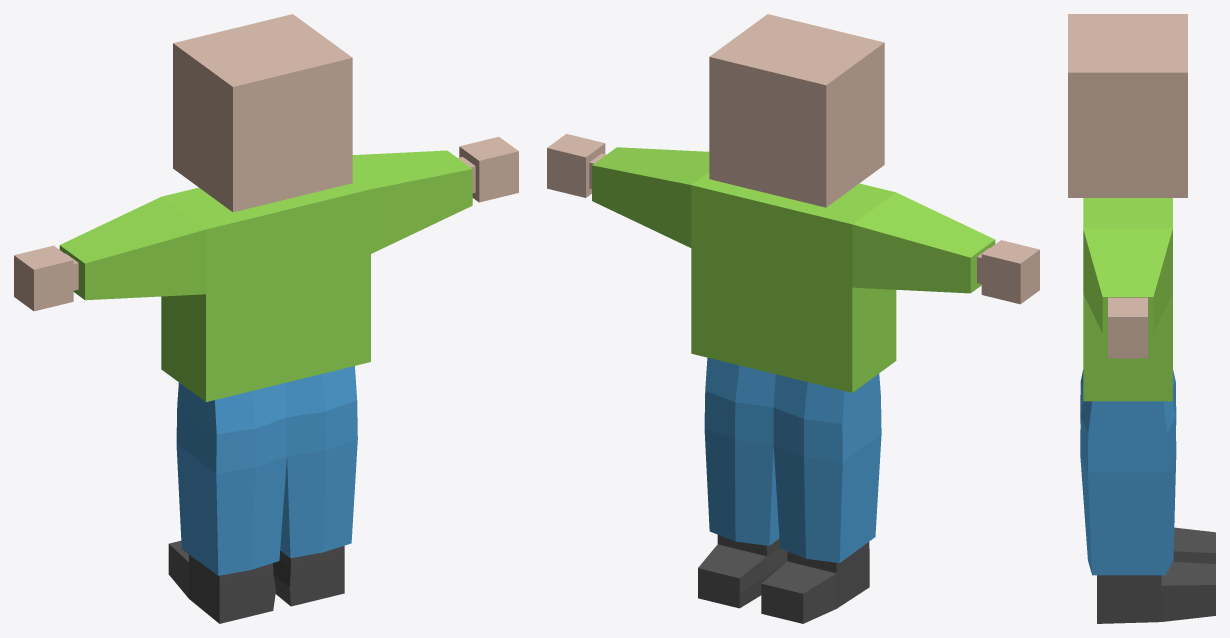
The model's file is Neighbour_1.fbx.
The picture shows the model from 3 angles, left to right: view 1: azimuth 30°, elevation 25°; view 2: azimuth 150°, elevation 25°; view 3: azimuth 270°, elevation 25°; orthographic projection. The views are drawn at different scales.
Visible parts, largest first — view 1: Cube.002, Cube, Cube.003, Cube.009, Cube.010, Cube.006, Cube.008; view 2: Cube.002, Cube, Cube.003, Cube.009, Cube.010, Cube.006, Cube.008; view 3: Cube.003, Cube, Cube.002, Cube.010, Cube.008, Cube.009.
Boxes of the visible parts, x1=… form: Cube.002: x1=59, y1=150, x2=472, y2=401; Cube: x1=176, y1=366, x2=357, y2=575; Cube.003: x1=173, y1=14, x2=352, y2=212; Cube.009: x1=168, y1=540, x2=275, y2=623; Cube.010: x1=273, y1=545, x2=344, y2=606; Cube.006: x1=14, y1=245, x2=73, y2=311; Cube.008: x1=459, y1=136, x2=518, y2=202; Cube.002: x1=592, y1=147, x2=995, y2=392; Cube: x1=704, y1=357, x2=881, y2=562; Cube.003: x1=709, y1=14, x2=884, y2=207; Cube.009: x1=761, y1=542, x2=869, y2=623; Cube.010: x1=698, y1=535, x2=787, y2=608; Cube.006: x1=981, y1=240, x2=1039, y2=304; Cube.008: x1=547, y1=134, x2=605, y2=197; Cube.003: x1=1068, y1=14, x2=1187, y2=197; Cube: x1=1080, y1=370, x2=1176, y2=575; Cube.002: x1=1083, y1=198, x2=1172, y2=401; Cube.010: x1=1097, y1=561, x2=1215, y2=623; Cube.008: x1=1108, y1=297, x2=1147, y2=358; Cube.009: x1=1173, y1=527, x2=1215, y2=563.
Bounding box in the file's own units: 155 × 167 × 40.78.
